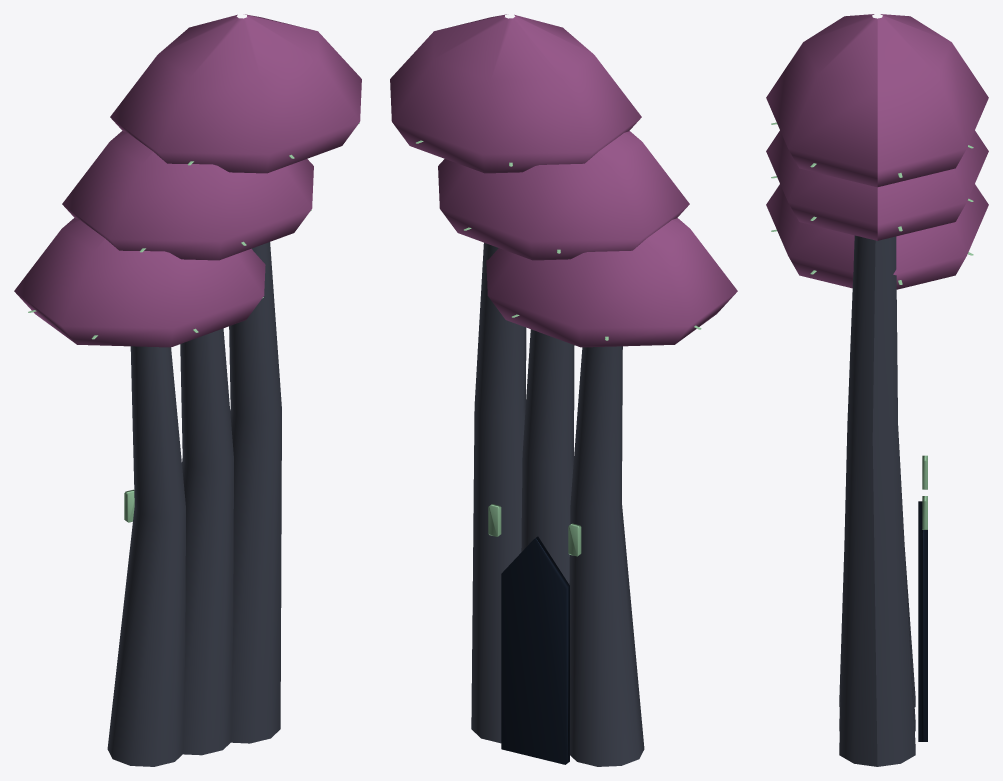
File: prop_1_4.glb
3 views of the same model, side by side, from view 1: azimuth 30°, elevation 25°; view 2: azimuth 150°, elevation 25°; view 3: azimuth 270°, elevation 25° (orthographic). The views are drawn at different scales.
Visible parts, largest first — view 1: FungalCap (×3), FungalStem (×3); view 2: FungalCap (×3), FungalStem (×3), ShrineDoor; view 3: FungalCap (×3), FungalStem, ShrineDoor.
Part boxes in pixels (<box>): FungalCap (×3): <box>14,14,361,347</box>; FungalStem (×3): <box>107,242,281,766</box>; FungalCap (×3): <box>390,14,737,347</box>; FungalStem (×3): <box>471,242,644,766</box>; ShrineDoor: <box>501,536,569,764</box>; FungalCap (×3): <box>766,14,988,289</box>; FungalStem: <box>839,235,915,766</box>; ShrineDoor: <box>918,501,927,741</box>.
Size of the model in its own units: 4.05 by 8.5 by 2.34.
